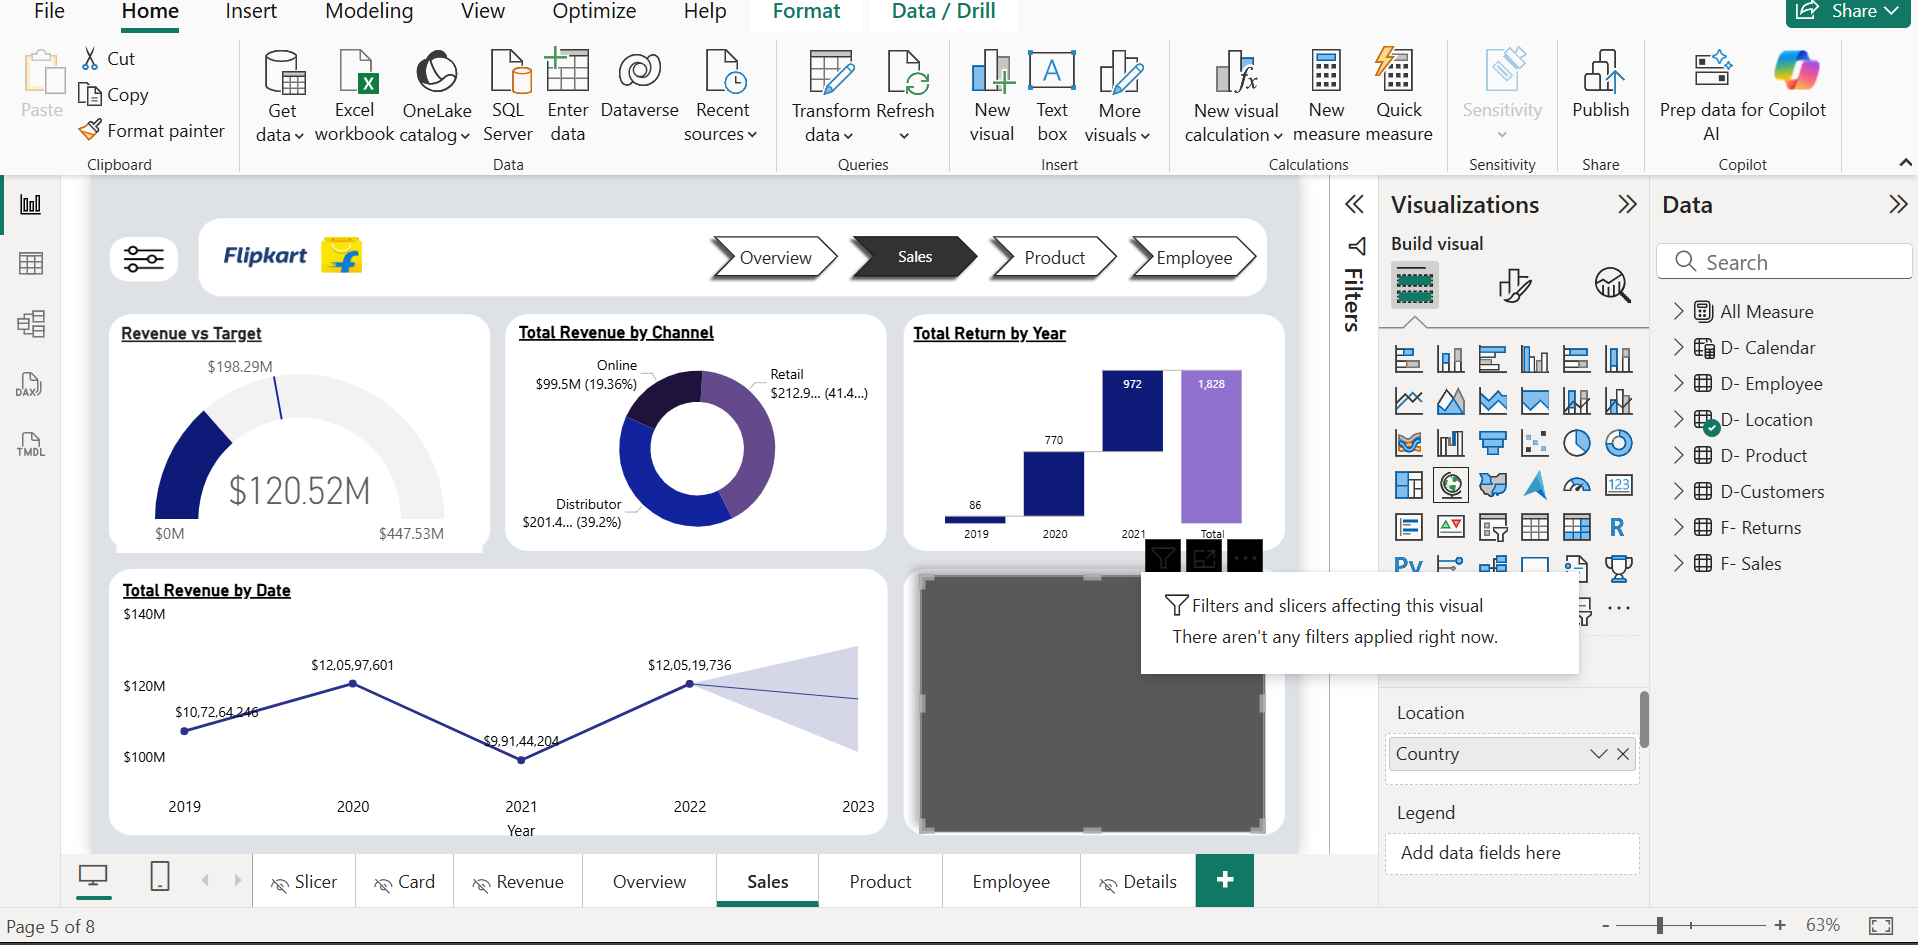

The dashboard page shown, as its layout file describes it:
{"tool":"powerbi","page":{"name":"Sales","canvas":[1280,720],"ordinal":4},"visuals":[{"type":"lineChart","title":"Total Revenue by Date","fields":{"Category":["D- Calendar.Year","D- Calendar.Quarter","D- Calendar.Month","D- Calendar.Day"],"Y":["All Measure.Total Revenue"]},"box":[28.6,429.1,807.4,279.7],"z":0},{"type":"donutChart","fields":{"Category":["D- Employee.Channel"],"Y":["All Measure.Total Revenue"]},"box":[448.2,155.8,387.8,247.9],"z":1000},{"type":"waterfallChart","fields":{"Category":["D- Calendar.Year"],"Y":["All Measure.Total Return"]},"box":[866.2,157.4,394.2,241.6],"z":2000},{"type":"map","fields":{"Category":["D- Location.Country"]},"box":[878.9,424.4,365.6,271.8],"z":3000},{"type":"gauge","title":"Revenue vs Target","fields":{"Y":["All Measure.This year Revenue"],"MaxValue":["All Measure.Total Revenue"],"TargetValue":["All Measure.Last year Revenue"]},"box":[27,157.4,387.8,243.2],"z":4000},{"type":"pageNavigator","box":[651.7,56.7,593.3,58.3],"z":5000},{"type":"actionButton","box":[20.3,58.9,64.9,58.9],"z":6000}]}

Visuals, with their boxes on the page's 1280x720 design canvas (x1, y1, x2, y2). These are canvas units, not pixel positions in the 1918x945 screenshot, which may show the page scaled, cropped or inside an application window:
"Total Revenue by Date" lineChart: [left=29, top=429, right=836, bottom=709]
donutChart - D- Employee.Channel x All Measure.Total Revenue: [left=448, top=156, right=836, bottom=404]
waterfallChart - D- Calendar.Year x All Measure.Total Return: [left=866, top=157, right=1260, bottom=399]
map - D- Location.Country: [left=879, top=424, right=1244, bottom=696]
"Revenue vs Target" gauge: [left=27, top=157, right=415, bottom=401]
pageNavigator: [left=652, top=57, right=1245, bottom=115]
actionButton: [left=20, top=59, right=85, bottom=118]
